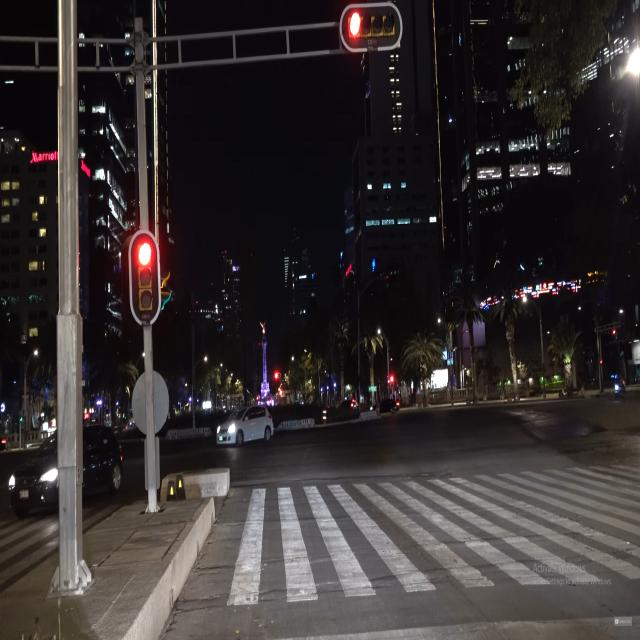headlights: (2, 460, 59, 499), (211, 419, 240, 436)
